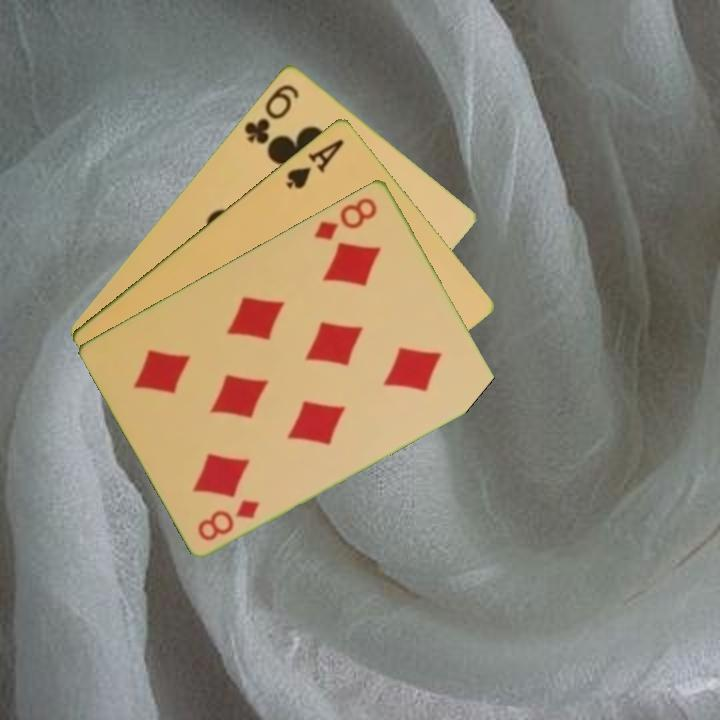6c: (240, 80, 302, 147)
8d: (310, 193, 381, 243), (193, 495, 263, 544)
As: (282, 134, 348, 192)
